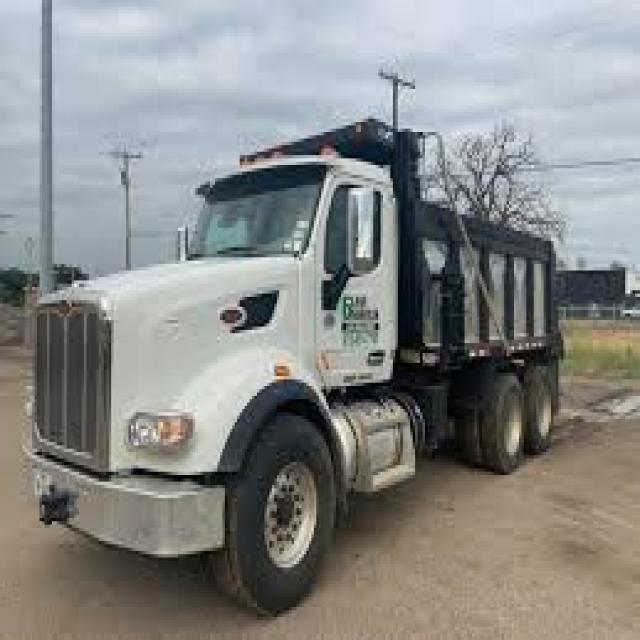dump_truck: (32, 131, 560, 622)
